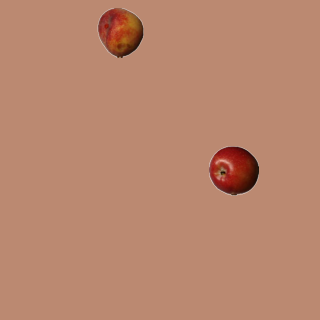Apple Braeburn: (208, 145, 258, 195)
Peach: (95, 7, 145, 57)
